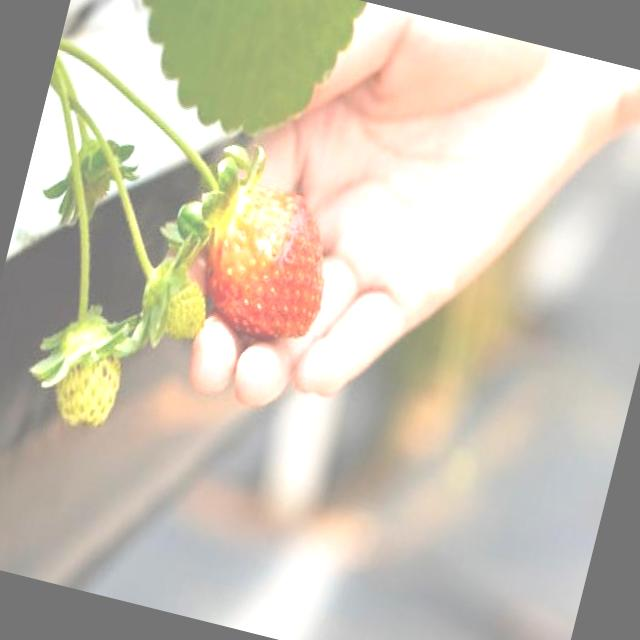Strawberry: (186, 175, 346, 352), (49, 330, 129, 438), (134, 257, 216, 345)
